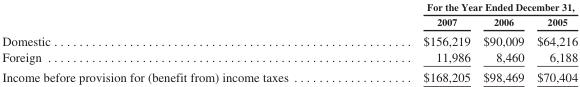table: (1, 0, 577, 83)
table column: (1, 0, 355, 83), (355, 0, 476, 83), (476, 0, 529, 83), (529, 0, 577, 83)
table column header: (1, 0, 577, 30)
table row: (1, 30, 577, 48), (1, 48, 577, 66), (1, 66, 577, 83), (1, 14, 577, 30), (1, 0, 577, 14)
table spanning cell: (355, 0, 577, 14)
